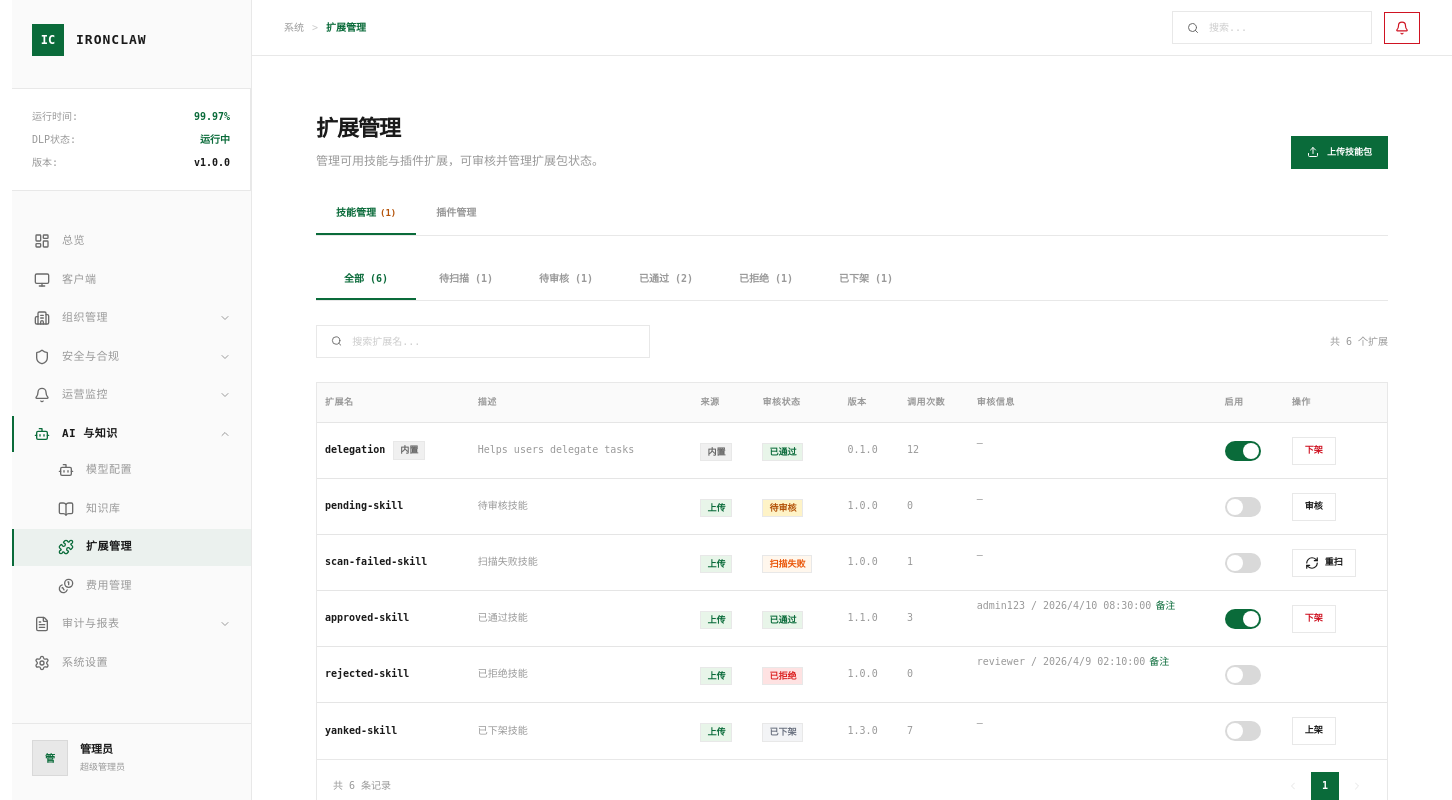
扩展管理 › 审核过滤 Tab › 已下架过滤应仅显示 yanked 项
This screenshot has width=1452, height=800.
What coordinates should you click on to do the following:
click the button "已下架 (1)"
I would click on:
 (866, 280)
Its box is [816,260,916,300].
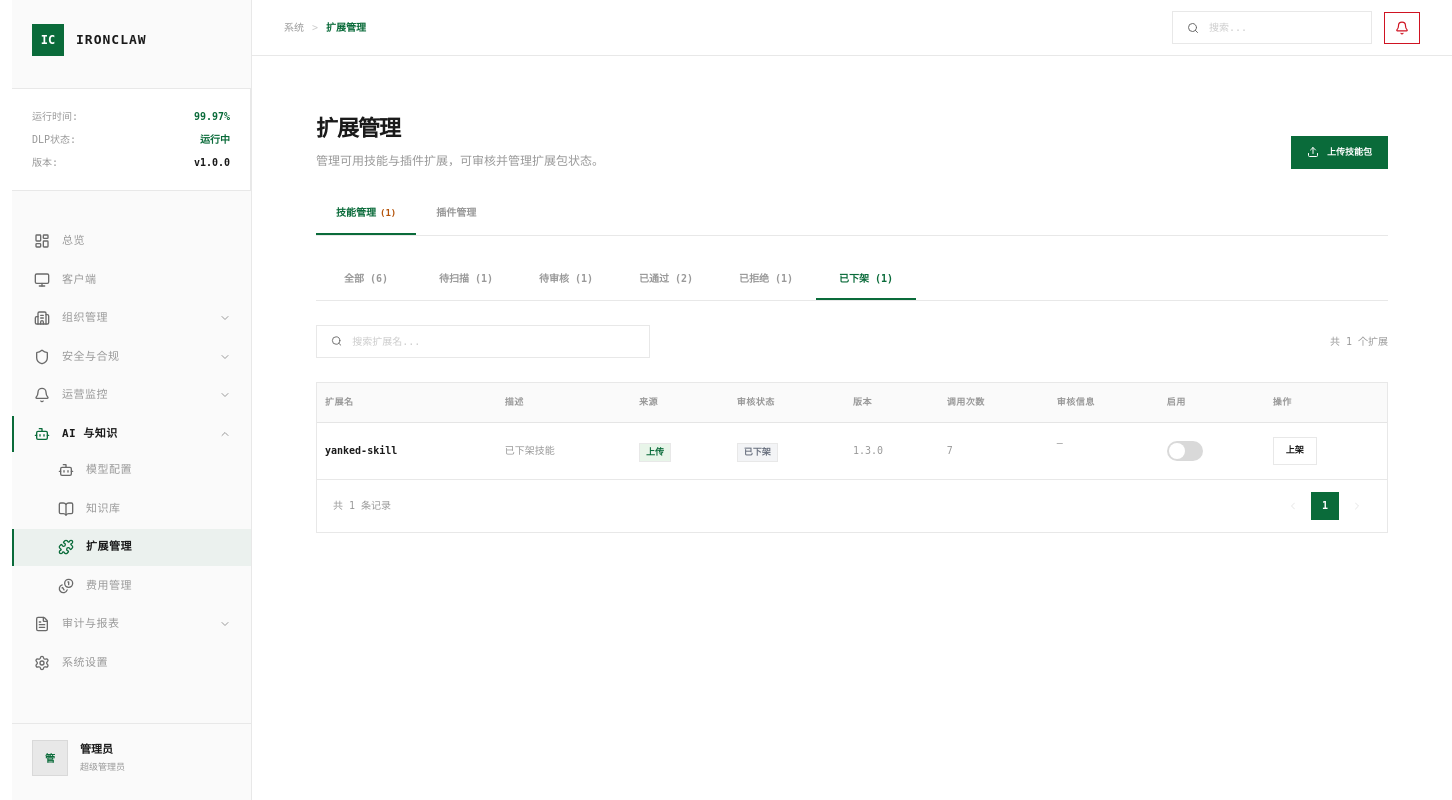
expect the text "yanked-skill" is shown: met, box [325,445,397,456]
expect the text "approved-skill" is gone: met
expect the text "pending-skill" is gone: met
